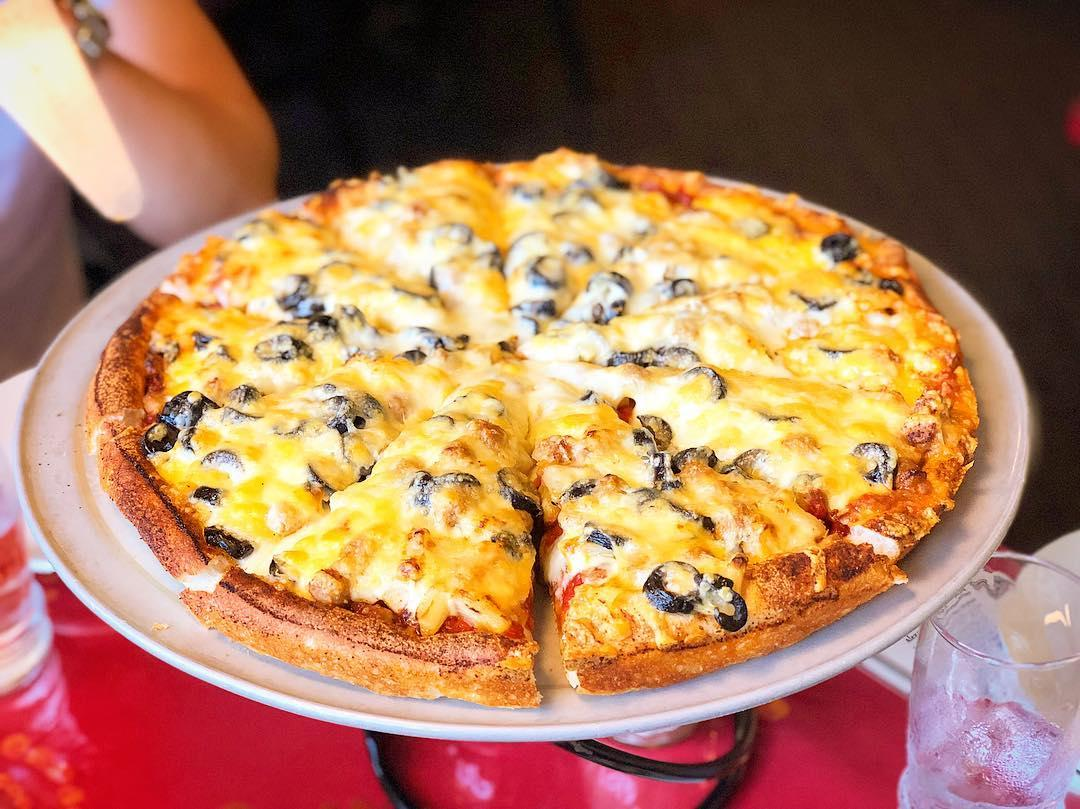Cheese: (282, 449, 406, 555), (725, 298, 804, 410), (808, 315, 899, 409), (358, 206, 435, 314), (395, 379, 482, 446), (656, 223, 770, 274), (488, 340, 591, 396)
Olives: (636, 560, 748, 624), (276, 272, 365, 344), (415, 463, 539, 513), (629, 409, 719, 476), (612, 342, 727, 394), (500, 232, 589, 292), (140, 386, 208, 451), (320, 386, 384, 437), (838, 435, 896, 482), (393, 325, 462, 363), (583, 266, 626, 324), (446, 222, 501, 265), (255, 330, 314, 368), (203, 518, 250, 563), (810, 226, 861, 264), (200, 443, 251, 481), (219, 380, 260, 425), (659, 273, 714, 306), (510, 298, 559, 331)
Pizza: (95, 158, 984, 707)
